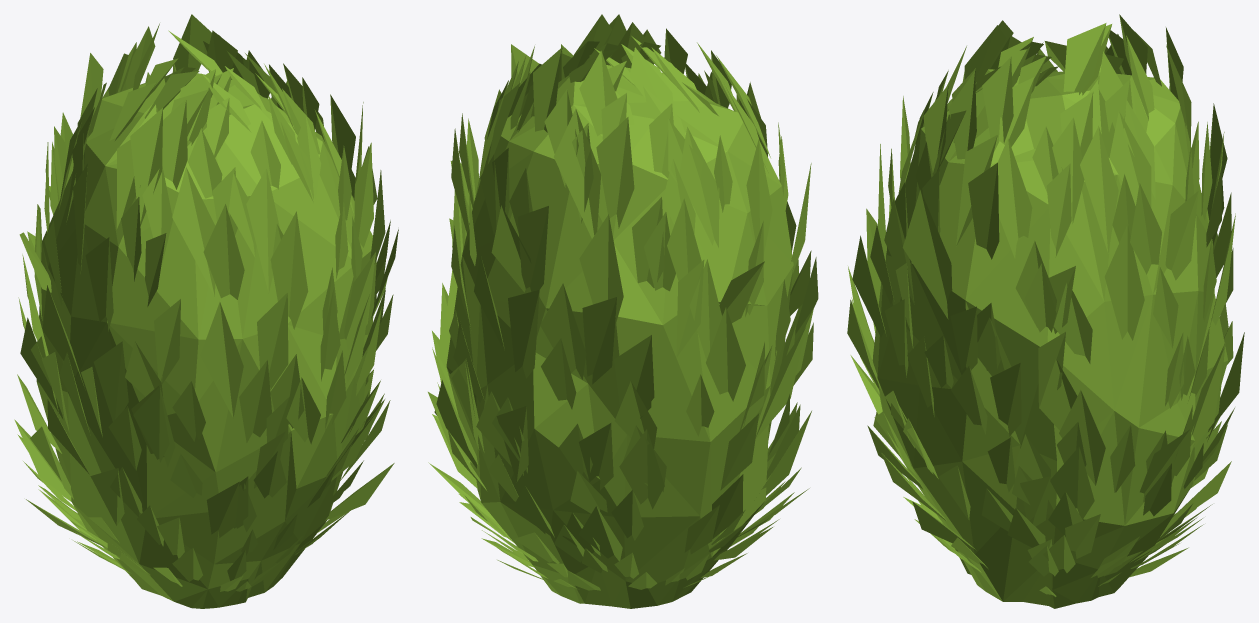
Rendered from SM_Bush_City_A.fbx.
The picture shows the model from 3 angles, left to right: view 1: azimuth 30°, elevation 25°; view 2: azimuth 150°, elevation 25°; view 3: azimuth 270°, elevation 25°; orthographic projection. The views are drawn at different scales.
Parts seen in each view (by area): view 1: SM_Bush_City_A; view 2: SM_Bush_City_A; view 3: SM_Bush_City_A.
Part boxes in pixels (bbox=[...]): SM_Bush_City_A: bbox=[14, 14, 398, 608]; SM_Bush_City_A: bbox=[428, 14, 818, 608]; SM_Bush_City_A: bbox=[847, 14, 1244, 608].
Bounding box in the file's own units: 1.42 × 2.12 × 1.37.
